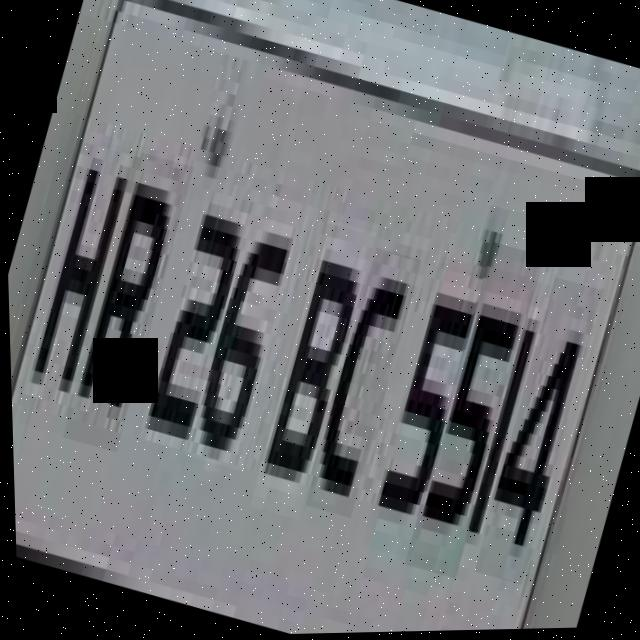4: (463, 278, 606, 588)
5: (392, 243, 549, 583), (350, 263, 493, 561)
6: (175, 191, 320, 473)
B: (240, 220, 382, 522)
C: (296, 248, 425, 520)
H: (6, 138, 147, 436)
R: (53, 152, 199, 453)
